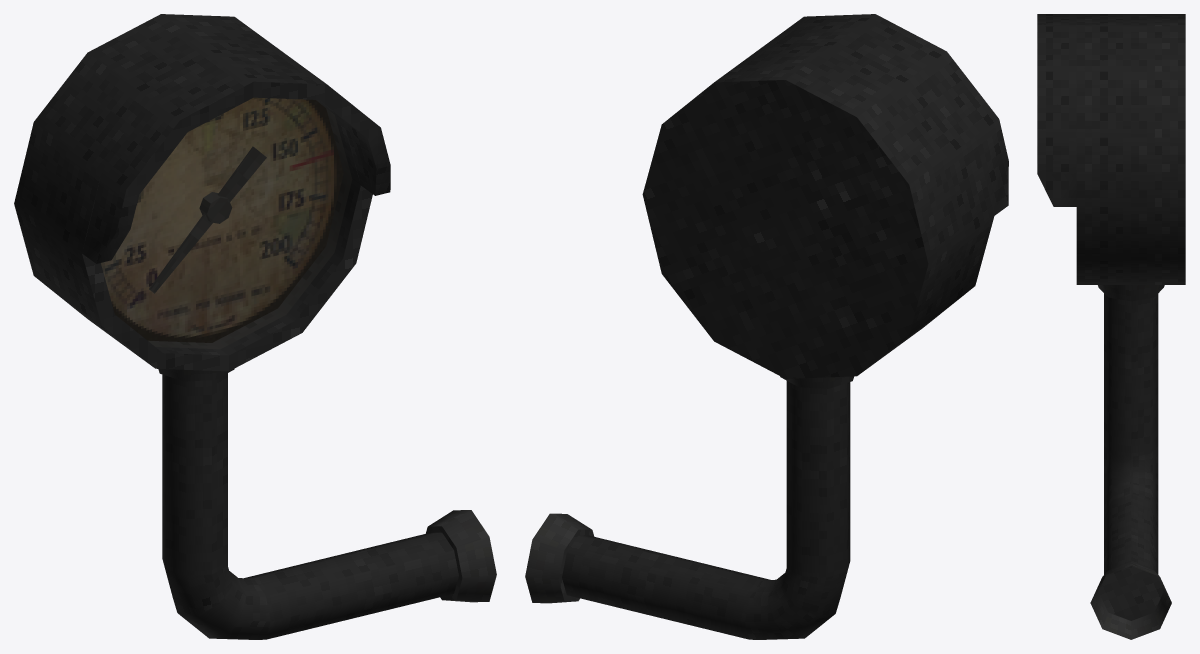
File: gauge_etx_3.glb
The picture shows the model from 3 angles, left to right: view 1: azimuth 30°, elevation 25°; view 2: azimuth 150°, elevation 25°; view 3: azimuth 270°, elevation 25°; orthographic projection. The views are drawn at different scales.
Visible parts, largest first — view 1: gauge_etx_3, gauge_pointer_etx_3_child; view 2: gauge_etx_3; view 3: gauge_etx_3.
Boxes of the visible parts, box(x1,y1,x2,y2) form: gauge_etx_3: box(14, 14, 496, 639); gauge_pointer_etx_3_child: box(149, 146, 266, 293); gauge_etx_3: box(525, 14, 1008, 639); gauge_etx_3: box(1037, 14, 1185, 639).
Bounding box in the file's own units: 0.288 × 0.41 × 0.109.
Materials: 3 (3 with a texture image).
